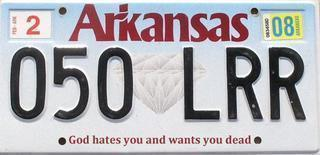placa de veiculo: (6, 4, 317, 151)
